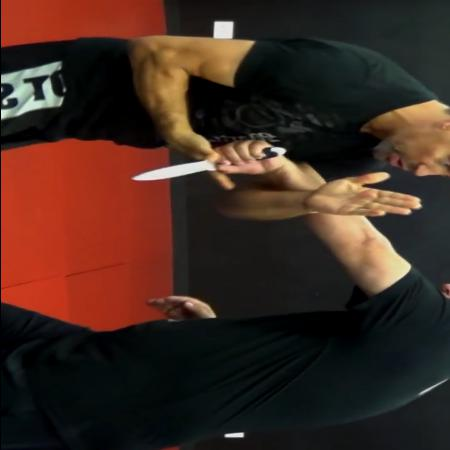long weapon: (123, 138, 289, 184)
